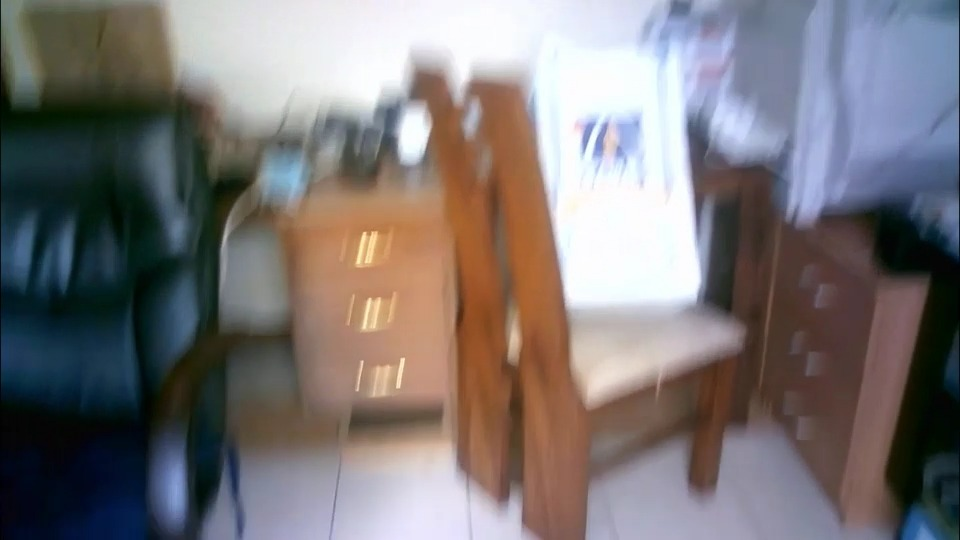wheat_flour_blue_label: (533, 42, 702, 316)
